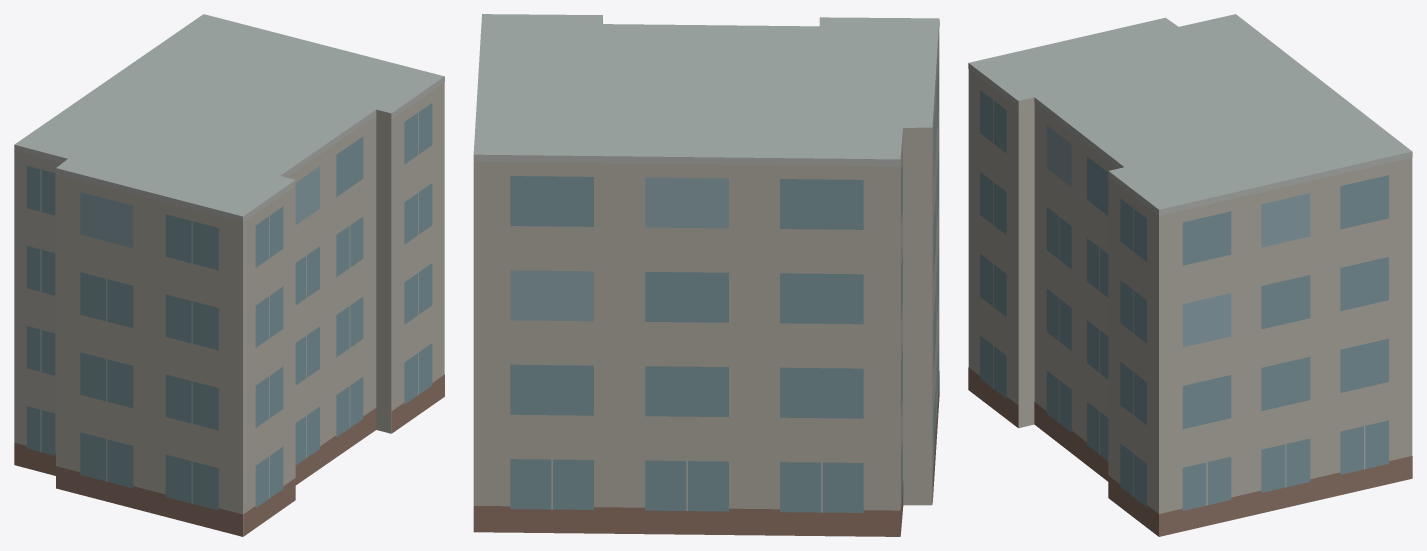
The model's file is survey-upis-32512216.glb.
The picture shows the model from 3 angles, left to right: view 1: azimuth 30°, elevation 25°; view 2: azimuth 150°, elevation 25°; view 3: azimuth 270°, elevation 25°; orthographic projection. The views are drawn at different scales.
Visible parts, largest first — view 1: survey-upis-32512216.tmp; view 2: survey-upis-32512216.tmp; view 3: survey-upis-32512216.tmp.
Part boxes in pixels (box(x1,y1,x2,y2)): survey-upis-32512216.tmp: box(14, 14, 444, 536); survey-upis-32512216.tmp: box(473, 14, 939, 536); survey-upis-32512216.tmp: box(968, 14, 1412, 536).
Size of the model in its own units: 16.77 by 13.06 by 16.07.
